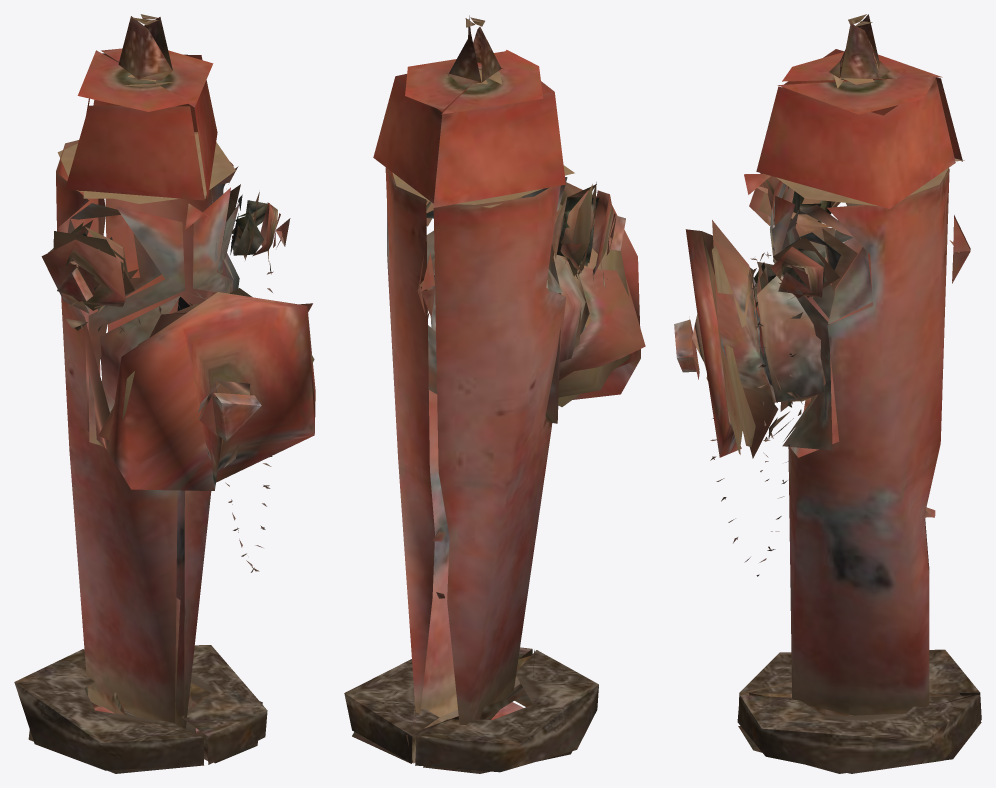
File: hidrante.glb
3 renders of one model, left to right at view 1: azimuth 30°, elevation 25°; view 2: azimuth 150°, elevation 25°; view 3: azimuth 270°, elevation 25°, orthographic.
Parts seen in each view (by area): view 1: Malha; view 2: Malha; view 3: Malha.
Part boxes in pixels (bbox=[...]): Malha: bbox=[14, 14, 315, 773]; Malha: bbox=[344, 15, 645, 773]; Malha: bbox=[674, 14, 981, 773].
Bounding box in the file's own units: 0.2728 × 0.8049 × 0.3173.
Materials: 1 (1 with a texture image).
